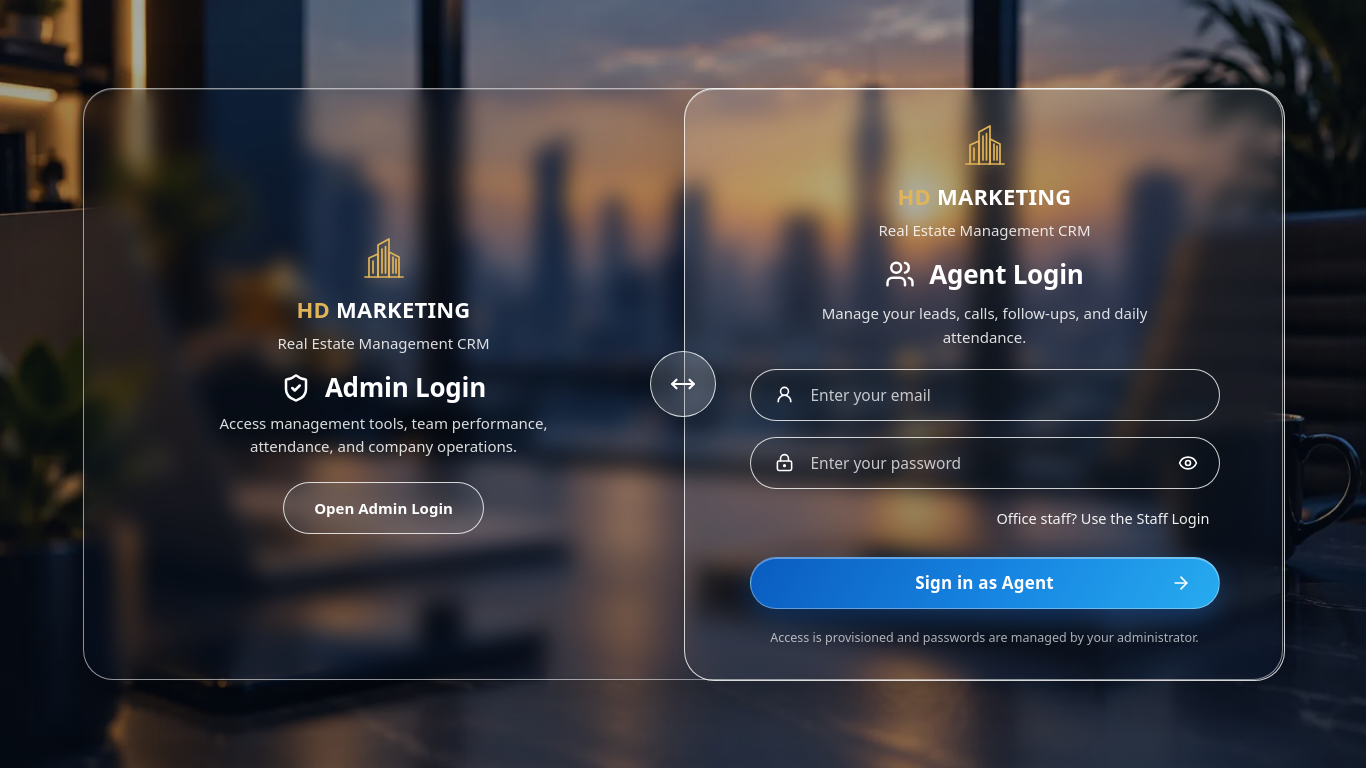
Test: separate login portals › suggests matching saved emails and fills only the email when clicked
This screenshot has width=1366, height=768.
Type "SaRf" into the dropdown named "Email address". click: (984, 395)
box: [750, 370, 1218, 420]
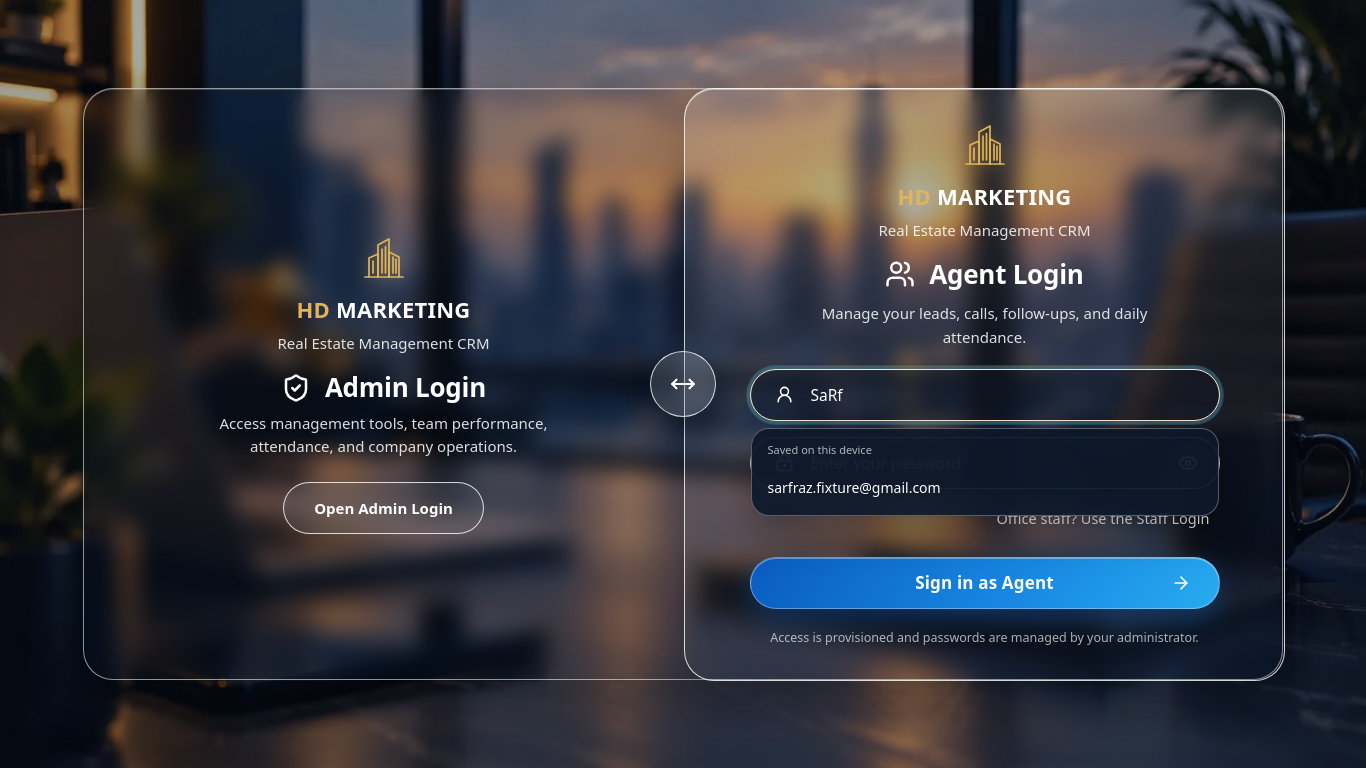
Expected: the number of options is 1
Click the option "sarfraz.fixture@gmail.com". click: (854, 487)
box: [758, 465, 1212, 509]
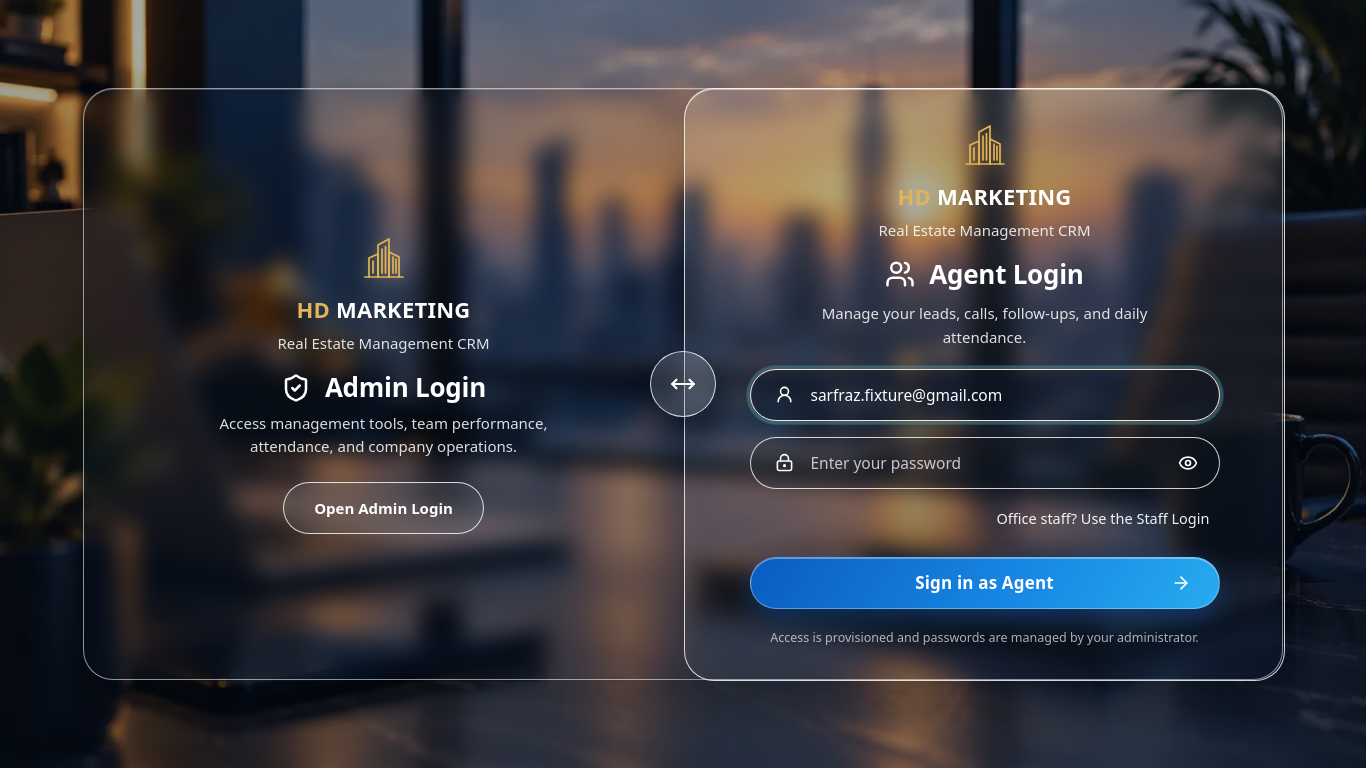
Expected: the password field labelled "password" is empty, [750, 438, 1218, 488]
Expected: the dropdown named "Email address" holds "sarfraz.fixture@gmail.com", [750, 370, 1218, 420]
Expected: the list is gone
Click the button "Sign in as Agent". click: (984, 583)
box: [750, 557, 1220, 609]
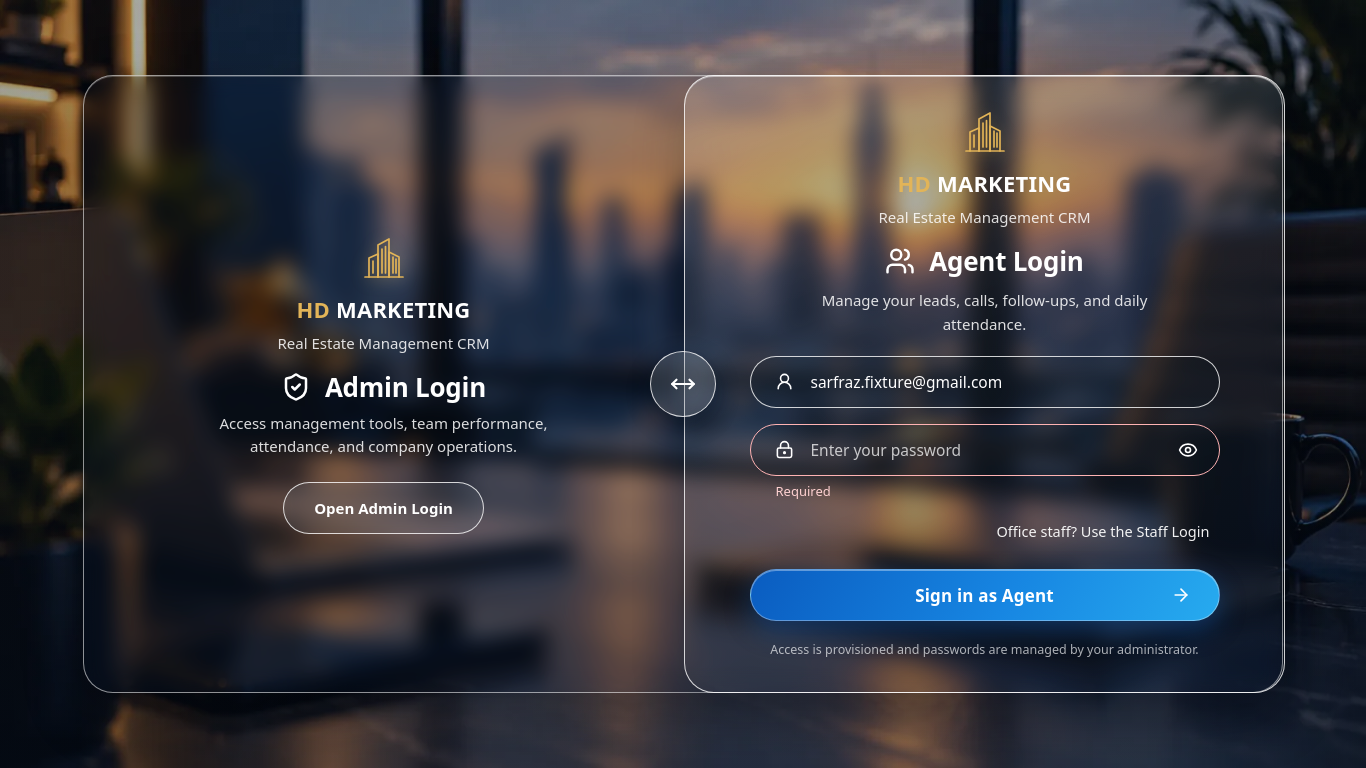
Expected: the text "Required" is shown, [776, 482, 831, 500]
